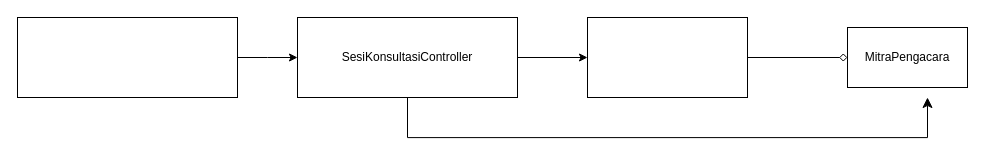
The diagram is 985 pixels wide and 166 high, and some of its shapes have lost their labels. Here are the shapes that lost their labels. From the top down, the centre of each, then its label:
(x=127, y=57): KonfitmasiKonsultasiPage
(x=667, y=57): SesiKonsultasi
